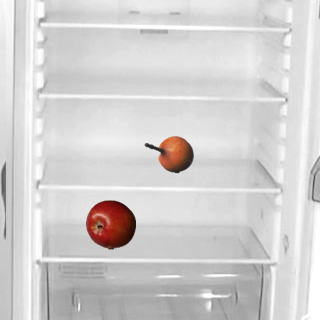Apple Braeburn: (85, 199, 135, 249)
Granadilla: (143, 129, 193, 179)
